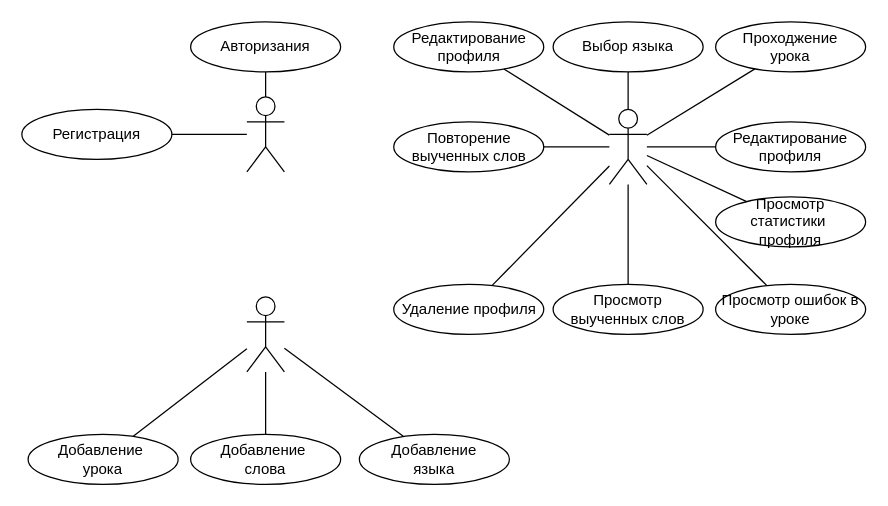
Image size: 888x506. Some labels were removed from this diagram. Each missing label, with the centre of its shape:
"администратор" goes at point (265, 334).
"Незарегистрированный пользователь" goes at point (265, 134).
"пользователь" goes at point (627, 146).
